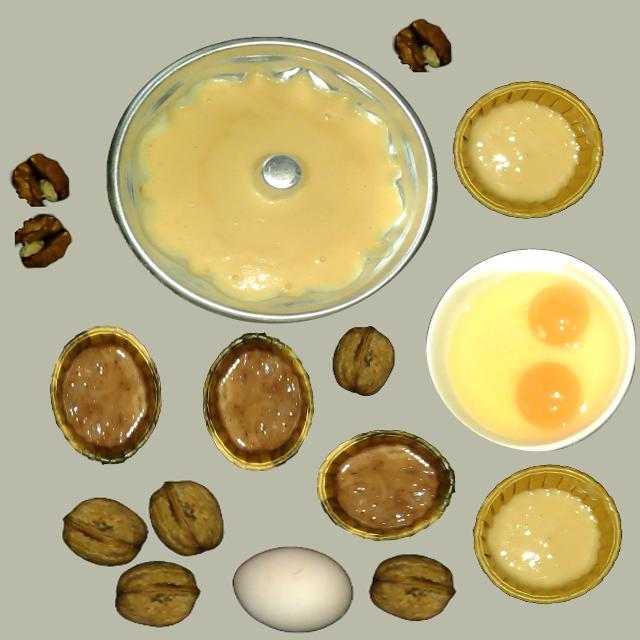Egg: (515, 363, 582, 428), (527, 284, 591, 346)
Walnut: (326, 317, 408, 405), (62, 497, 147, 567), (369, 555, 455, 621), (149, 481, 223, 556), (115, 561, 200, 626)
